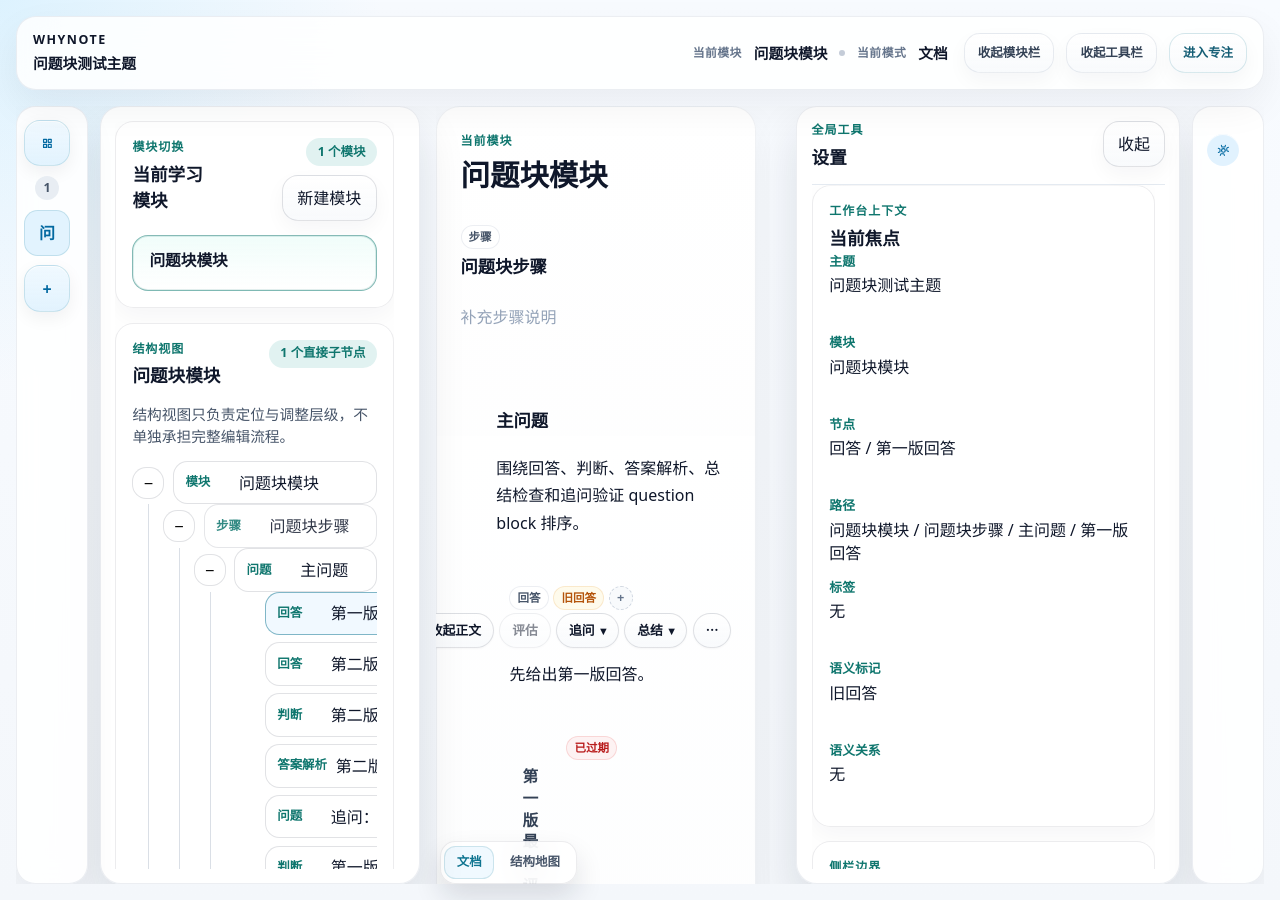
Test: keeps low-frequency actions in ⋯ on answer-first
Click the button "⋯" at {"x": 712, "y": 630}, box [693,613,731,648]
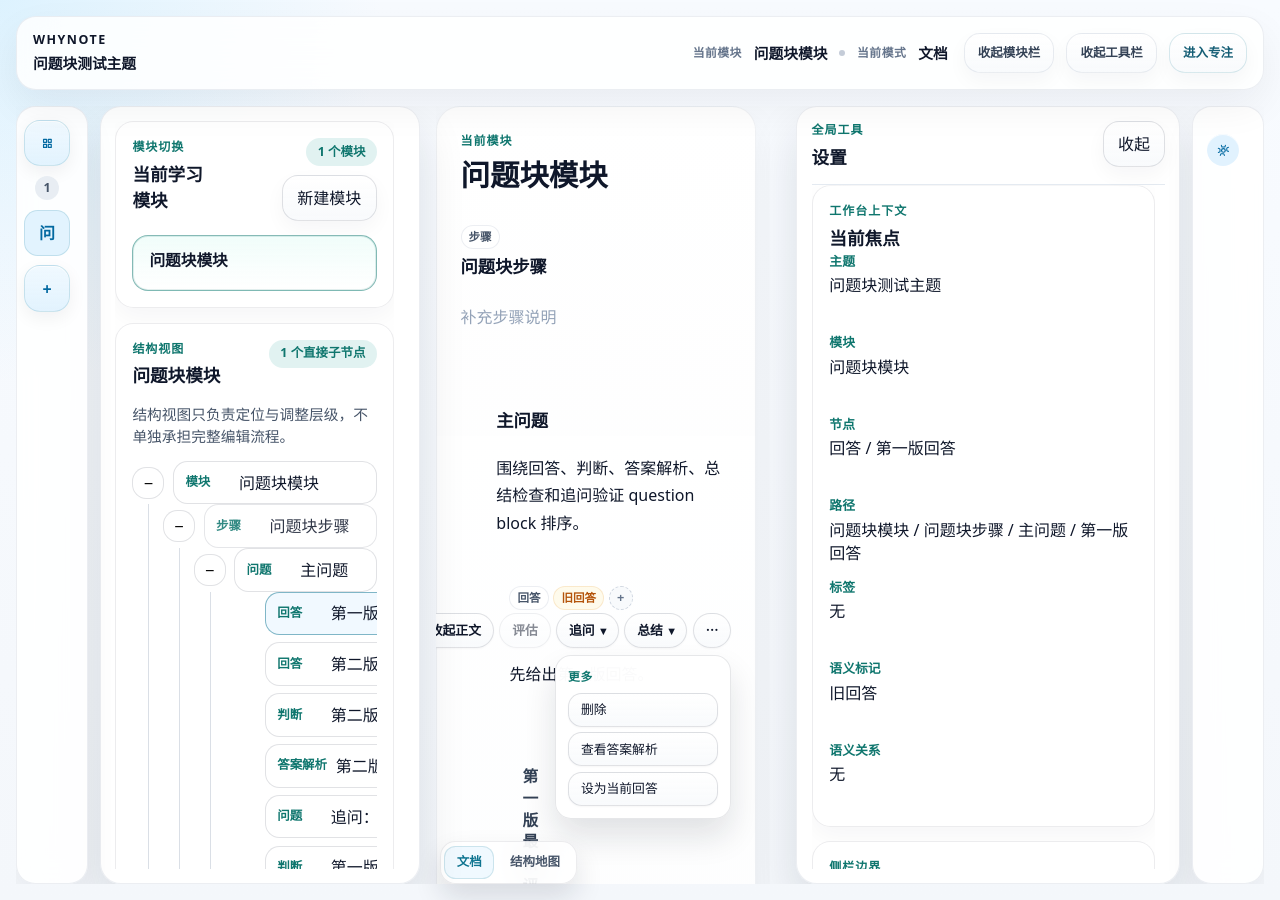
Check: the button "删除" is shown, box [568,693,718,727]
Check: the button "查看答案解析" is shown, box [568,732,718,766]
Check: the button "设为当前回答" is shown, box [568,772,718,806]
